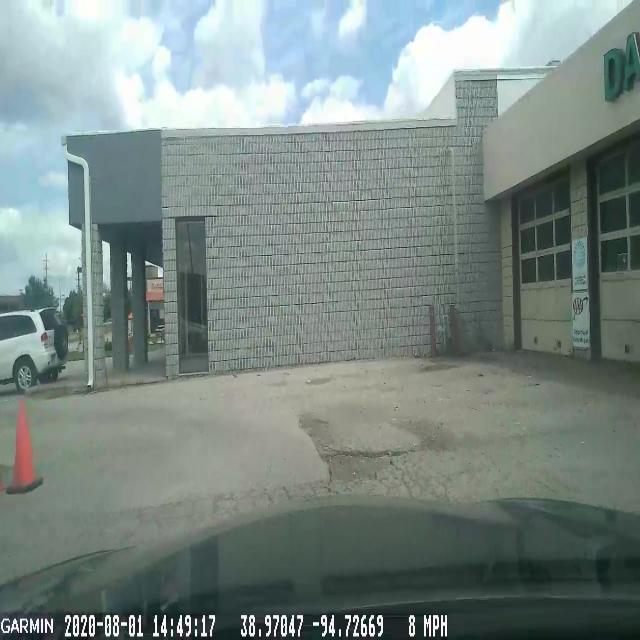Pothole: (311, 422, 421, 502)
